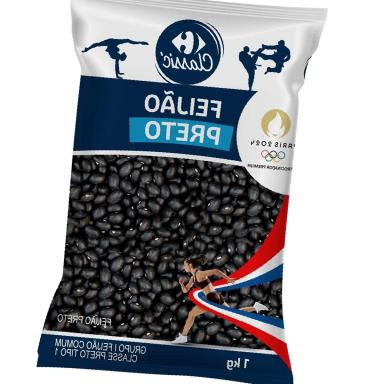beans package: (38, 0, 326, 383)
